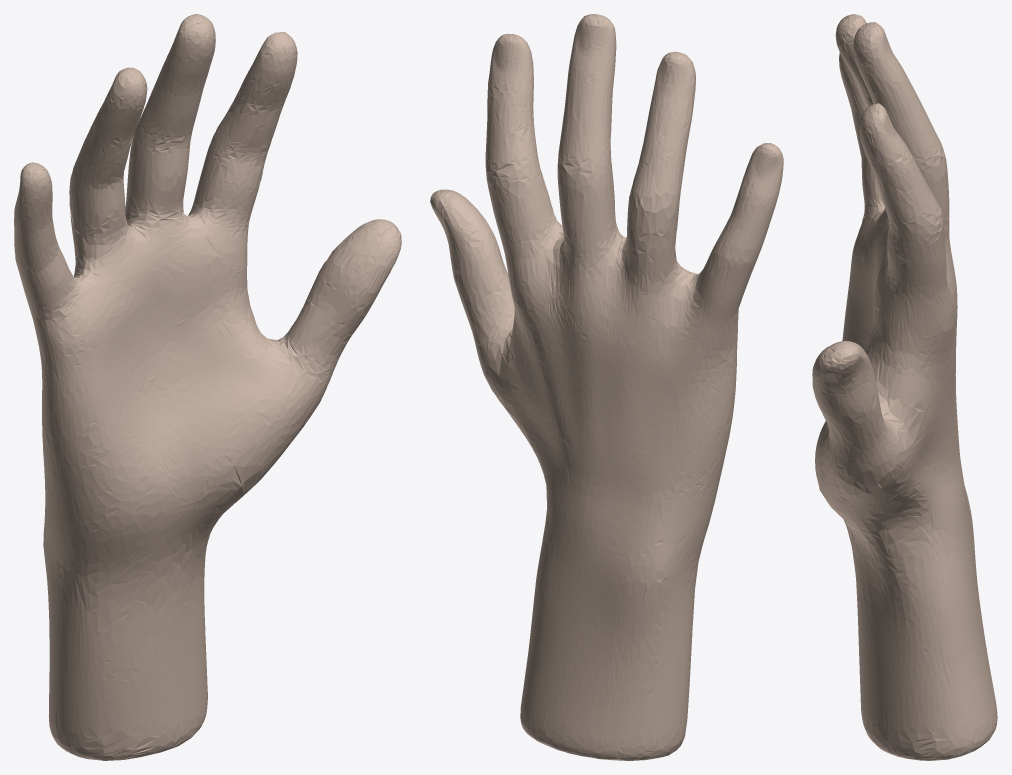
File: hand-lowpoly.glb
The picture shows the model from 3 angles, left to right: view 1: azimuth 30°, elevation 25°; view 2: azimuth 150°, elevation 25°; view 3: azimuth 270°, elevation 25°; orthographic projection. The views are drawn at different scales.
Parts seen in each view (by area): view 1: geometry_0; view 2: geometry_0; view 3: geometry_0.
Part boxes in pixels (x1=…): geometry_0: x1=14, y1=14, x2=401, y2=760; geometry_0: x1=430, y1=14, x2=783, y2=760; geometry_0: x1=812, y1=14, x2=997, y2=760.
Size of the model in its own units: 2.13 by 4 by 0.9203.
